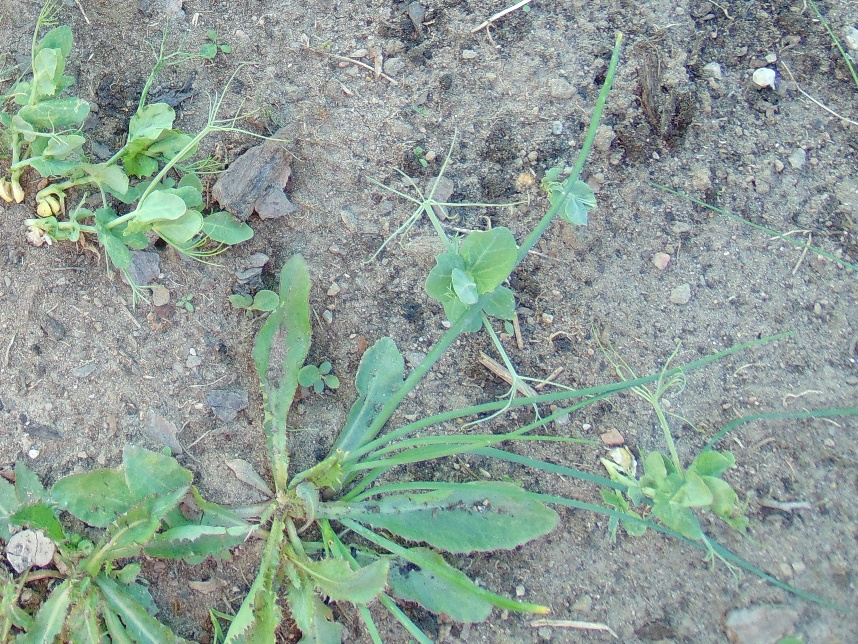crop: (1, 5, 253, 300), (594, 370, 745, 575), (402, 189, 542, 383), (540, 164, 599, 229)
weed: (211, 335, 560, 644), (1, 446, 249, 644), (297, 360, 341, 395), (229, 290, 280, 318), (199, 28, 232, 58)
